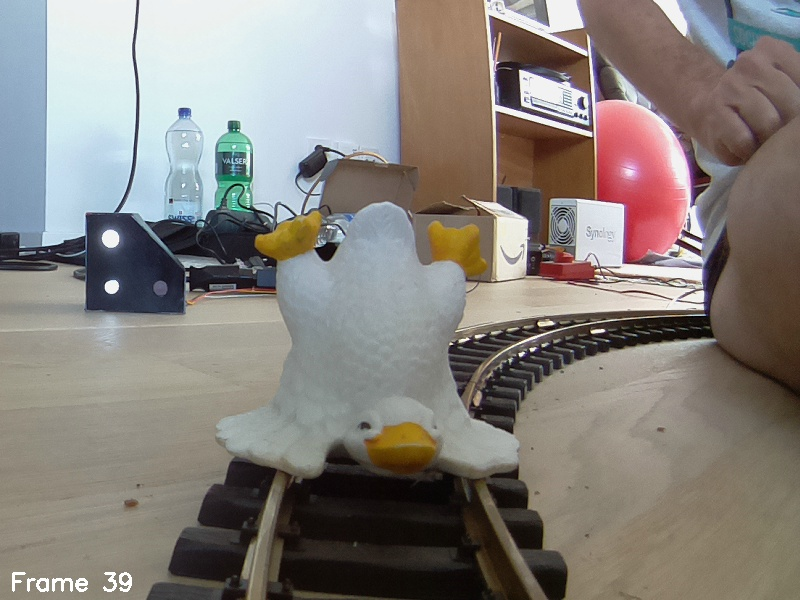Ente: (223, 185, 530, 486)
Fahrt: (81, 210, 188, 318)
